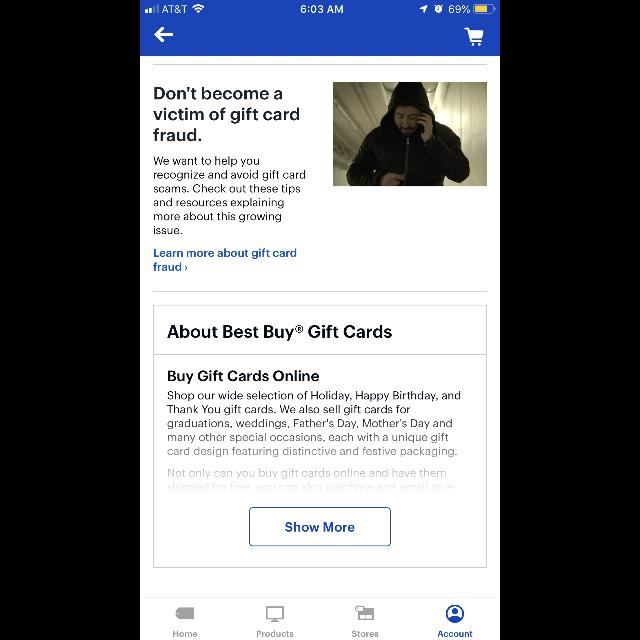icon: (464, 28, 484, 46), (446, 605, 464, 623), (154, 27, 173, 43), (176, 607, 194, 619), (185, 266, 187, 270)
image: (334, 82, 486, 186), (266, 606, 284, 622), (356, 606, 374, 620)
text: (168, 391, 460, 493), (154, 157, 306, 235), (154, 86, 300, 142), (168, 325, 392, 341), (154, 248, 296, 272), (168, 370, 320, 384), (256, 631, 294, 637), (438, 631, 472, 637), (352, 631, 378, 637), (174, 631, 198, 637)
textbutton: (250, 508, 390, 546)
uppertaskbar: (140, 0, 500, 14)
